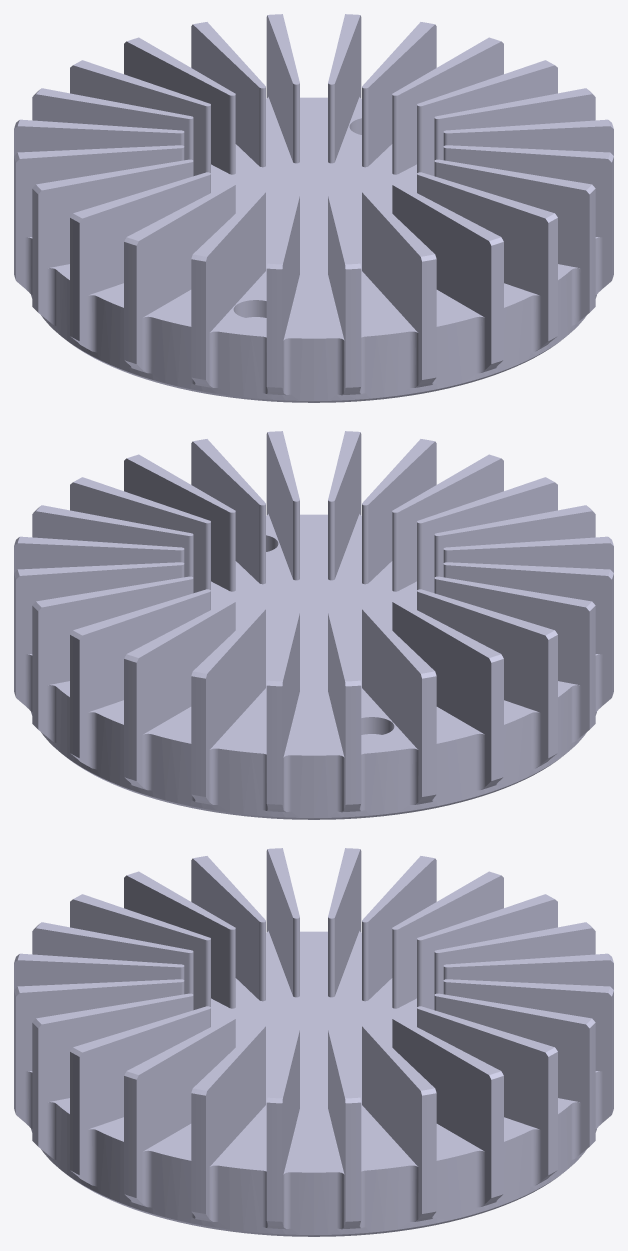
The model's file is os1_fins.dae.
The picture shows the model from 3 angles, top to bottom: view 1: azimuth 30°, elevation 25°; view 2: azimuth 150°, elevation 25°; view 3: azimuth 270°, elevation 25°; orthographic projection.
Visible parts, largest first — view 1: node0; view 2: node0; view 3: node0.
Part boxes in pixels (<box>): node0: <box>14,14,613,402</box>; node0: <box>14,431,613,819</box>; node0: <box>14,848,613,1236</box>.
Size of the model in its own units: 0.0804 by 0.0804 by 0.0214.
